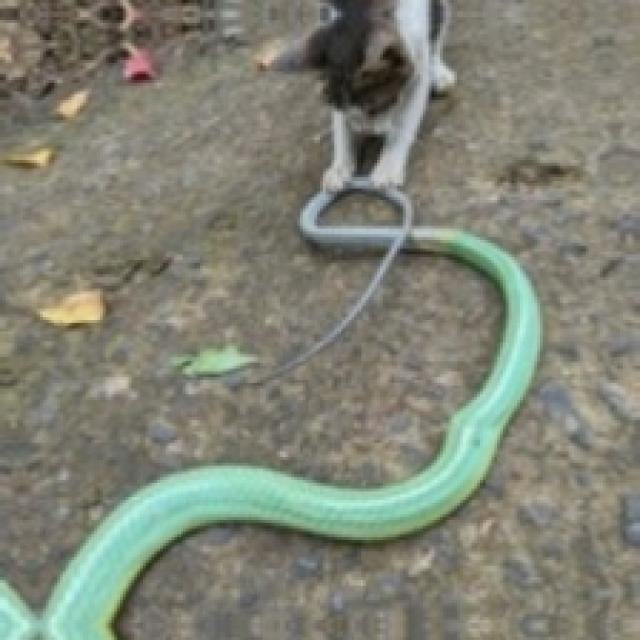red-tailed green ratsnake: (0, 179, 540, 640), (0, 226, 540, 637)
